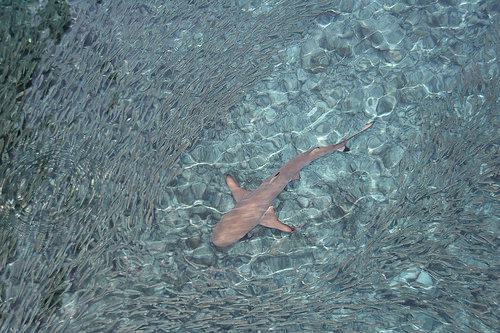shark: (183, 83, 385, 264)
